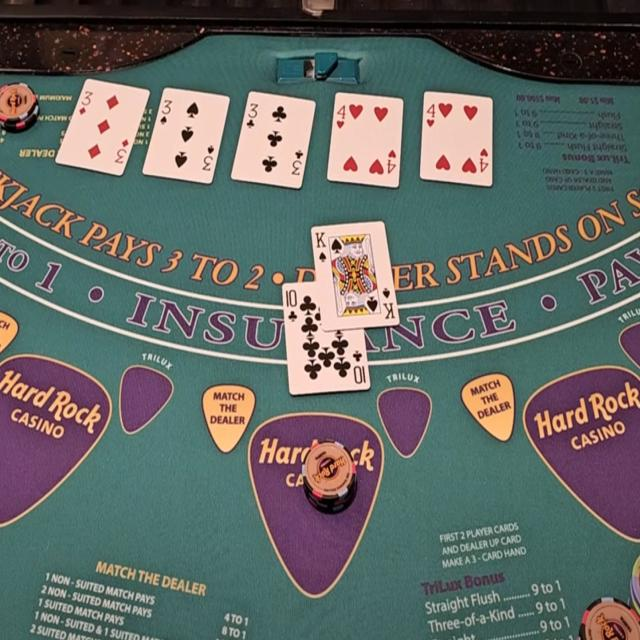10: (284, 288, 298, 309)
3: (80, 89, 94, 106), (246, 101, 259, 119), (161, 99, 173, 115)
4: (425, 102, 437, 118), (336, 103, 347, 120)
K: (313, 230, 327, 250)
